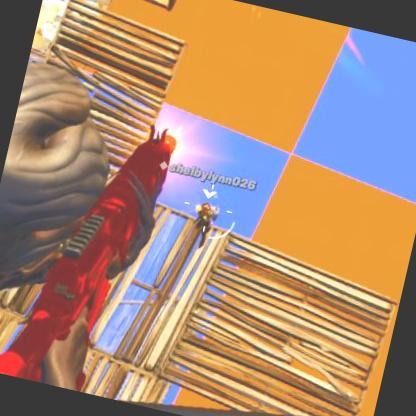person: (192, 200, 218, 239)
